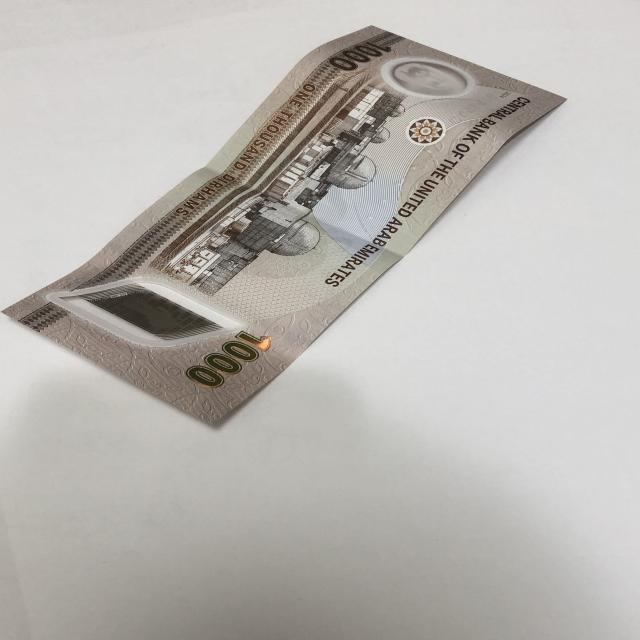1000_AED: (1, 22, 576, 440)
